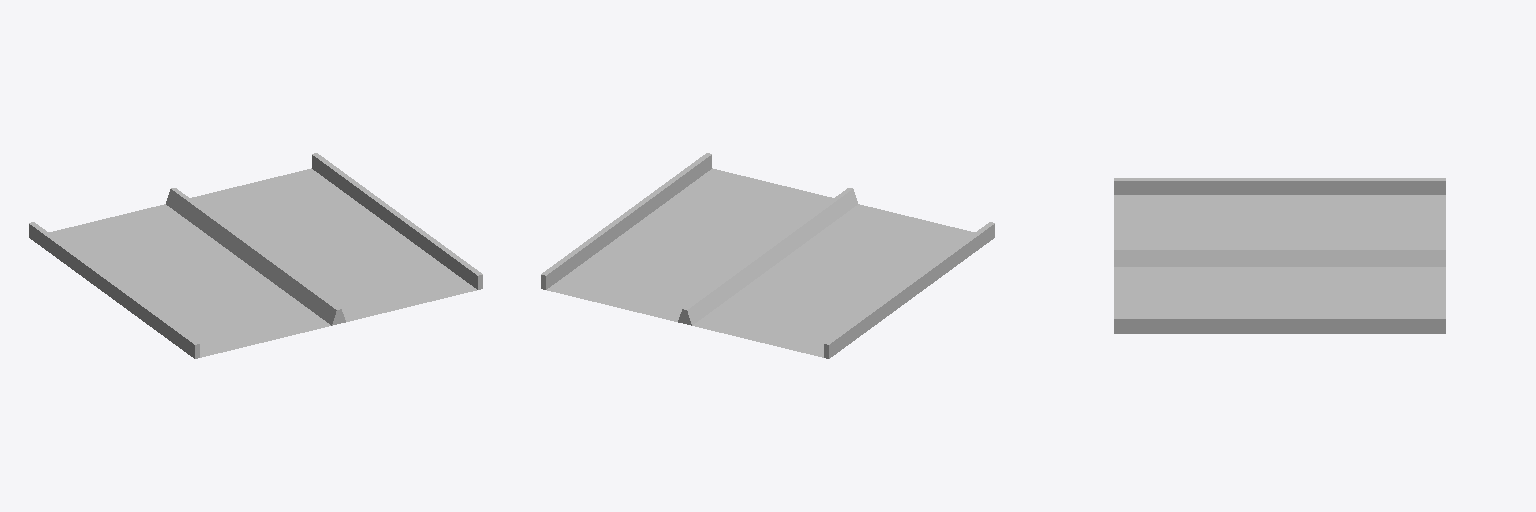
File: M Straight.obj
The picture shows the model from 3 angles: view 1: azimuth 30°, elevation 25°; view 2: azimuth 150°, elevation 25°; view 3: azimuth 270°, elevation 25°; orthographic projection.
Visible parts, largest first — view 1: M_Stright_Ground_Plane.000; view 2: M_Stright_Ground_Plane.000; view 3: M_Stright_Ground_Plane.000.
Boxes of the visible parts, <box> form: M_Stright_Ground_Plane.000: <box>29,153,482,358</box>; M_Stright_Ground_Plane.000: <box>541,153,994,358</box>; M_Stright_Ground_Plane.000: <box>1114,178,1445,333</box>.
Size of the model in its own units: 105 by 5 by 105.